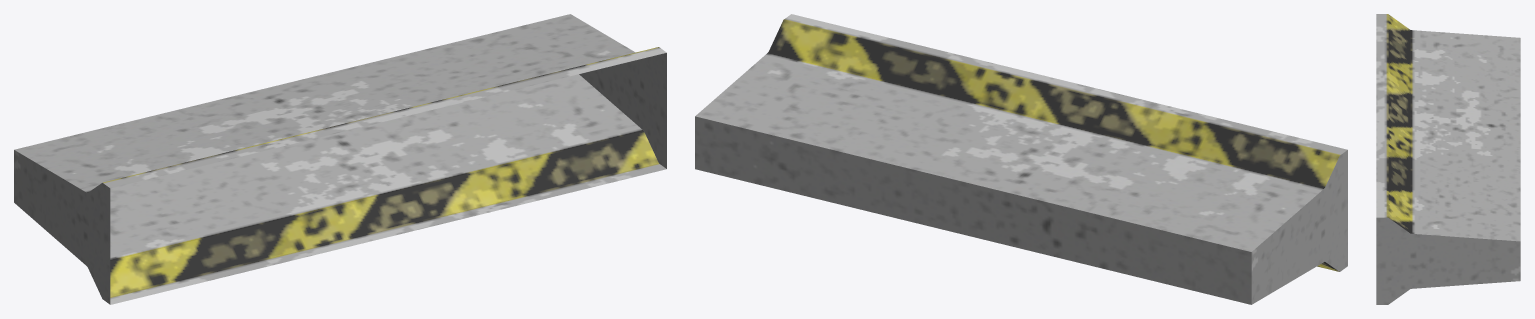
The model's file is Barricade.fbx.
3 views of the same model, side by side, from view 1: azimuth 30°, elevation 25°; view 2: azimuth 150°, elevation 25°; view 3: azimuth 270°, elevation 25° (orthographic). The views are drawn at different scales.
Parts seen in each view (by area): view 1: Barricade; view 2: Barricade; view 3: Barricade.
Boxes of the visible parts, box(x1,y1,x2,y2) form: Barricade: box(14, 14, 666, 304); Barricade: box(695, 14, 1347, 304); Barricade: box(1376, 14, 1520, 304).
Bounding box in the file's own units: 101 × 20.16 × 30.24.
